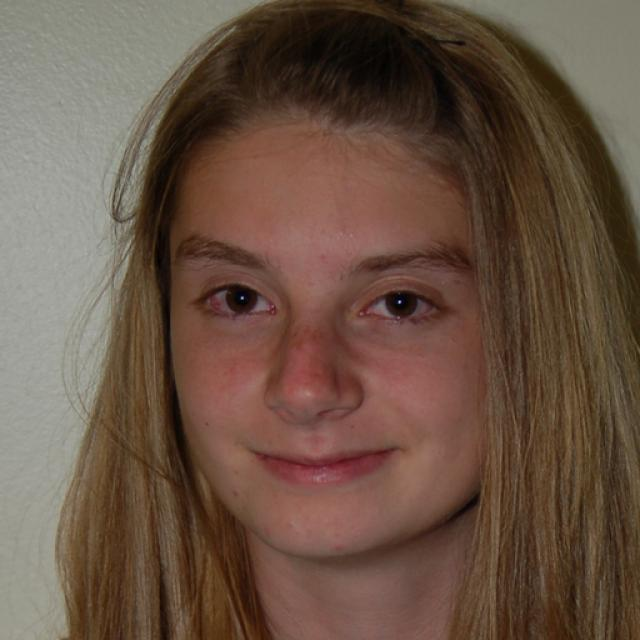Pigmentation: (262, 317, 369, 398)
